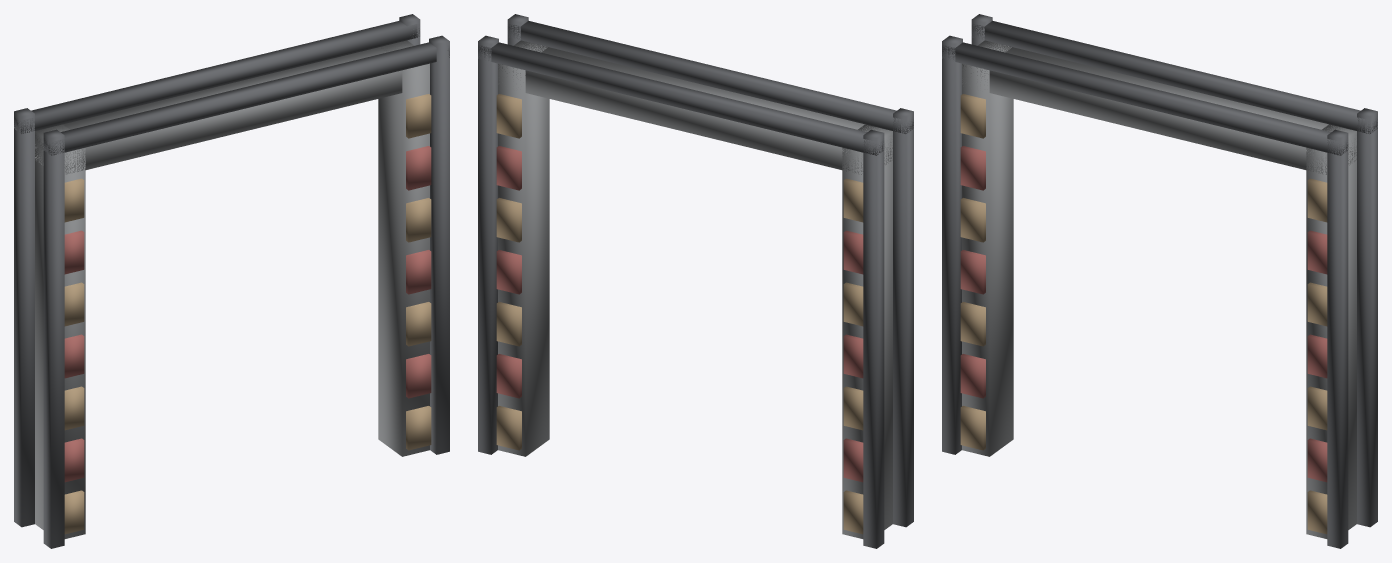
File: doorway_brick_return_w182_h200_d24.glb
3 views of the same model, side by side, from view 1: azimuth 30°, elevation 25°; view 2: azimuth 150°, elevation 25°; view 3: azimuth 330°, elevation 25° (orthographic).
Parts seen in each view (by area): view 1: world; view 2: world; view 3: world.
Boxes of the visible parts, <box> form: world: <box>14,14,449,548</box>; world: <box>478,14,913,548</box>; world: <box>942,14,1377,548</box>.
Bounding box in the file's own units: 2.29 × 2.26 × 0.3706.
